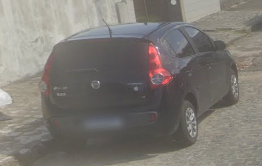car: (38, 22, 240, 150)
